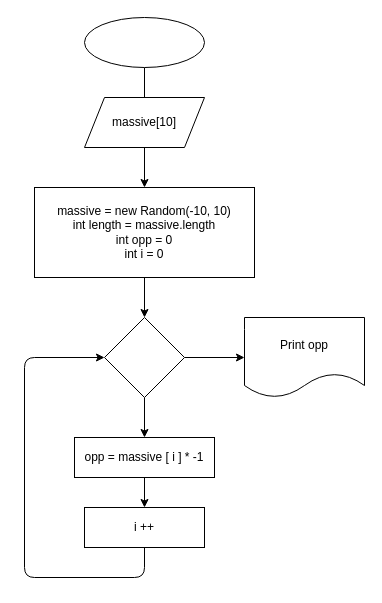
Some shapes in this 382 by 603 pixel diagram are drawn without their labels. The shapes that lost their labels are listed below. From the top down, each one's centre as x and y in pixels, then its label:
point (144, 42): Start
point (144, 357): i < length
